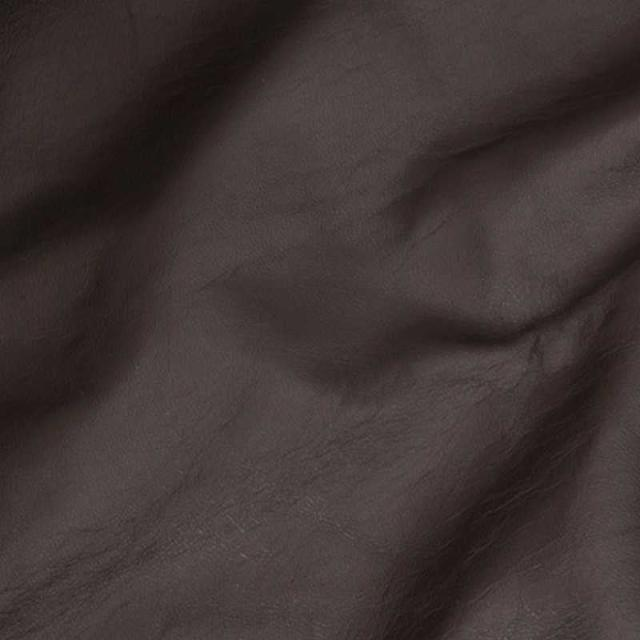Crease: (330, 58, 612, 338), (348, 354, 560, 626)
